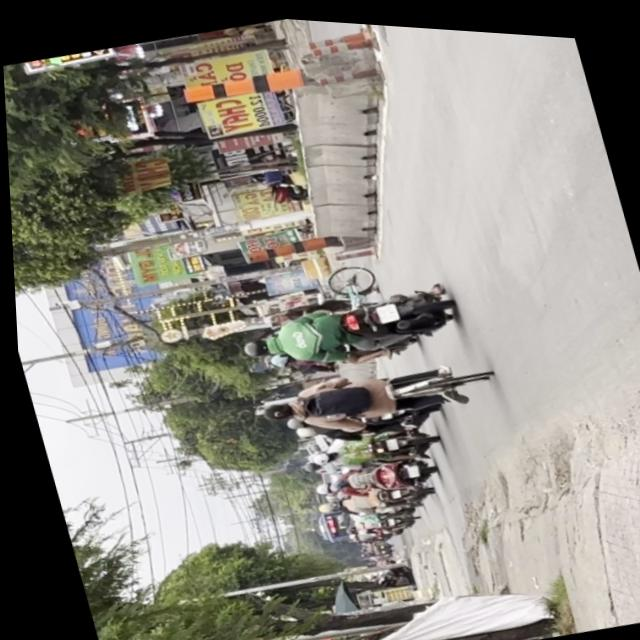helmet: (232, 329, 270, 356)
licenseplate: (224, 262, 464, 389)
nohelmet: (370, 295, 396, 319)
